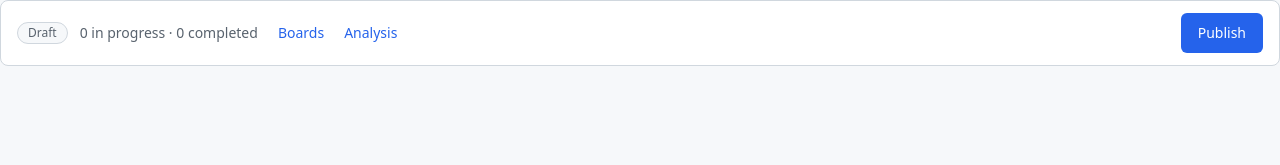
StatusBar › STU-10: shows the server's publish problems
This screenshot has width=1280, height=165.
Click the button "Publish" at (1222, 33), box [1181,13,1263,53]
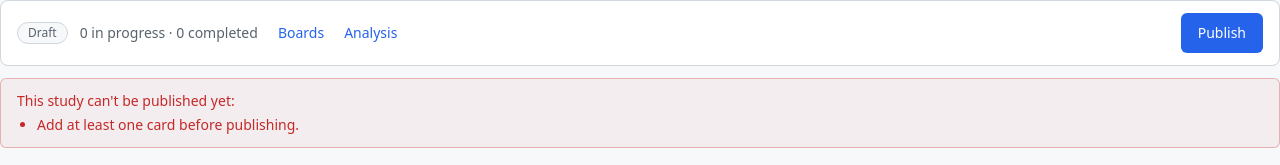
Check: the list item "Add at least one card before publishing." is shown, box [37,115,299,134]
Check: the text "This study can't be published yet:" is shown, box [17,91,235,110]
